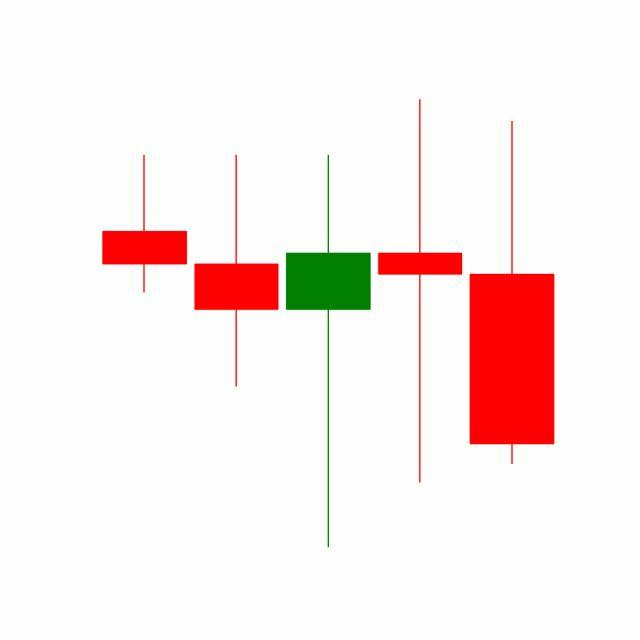Spinning Top: (374, 95, 468, 487)
